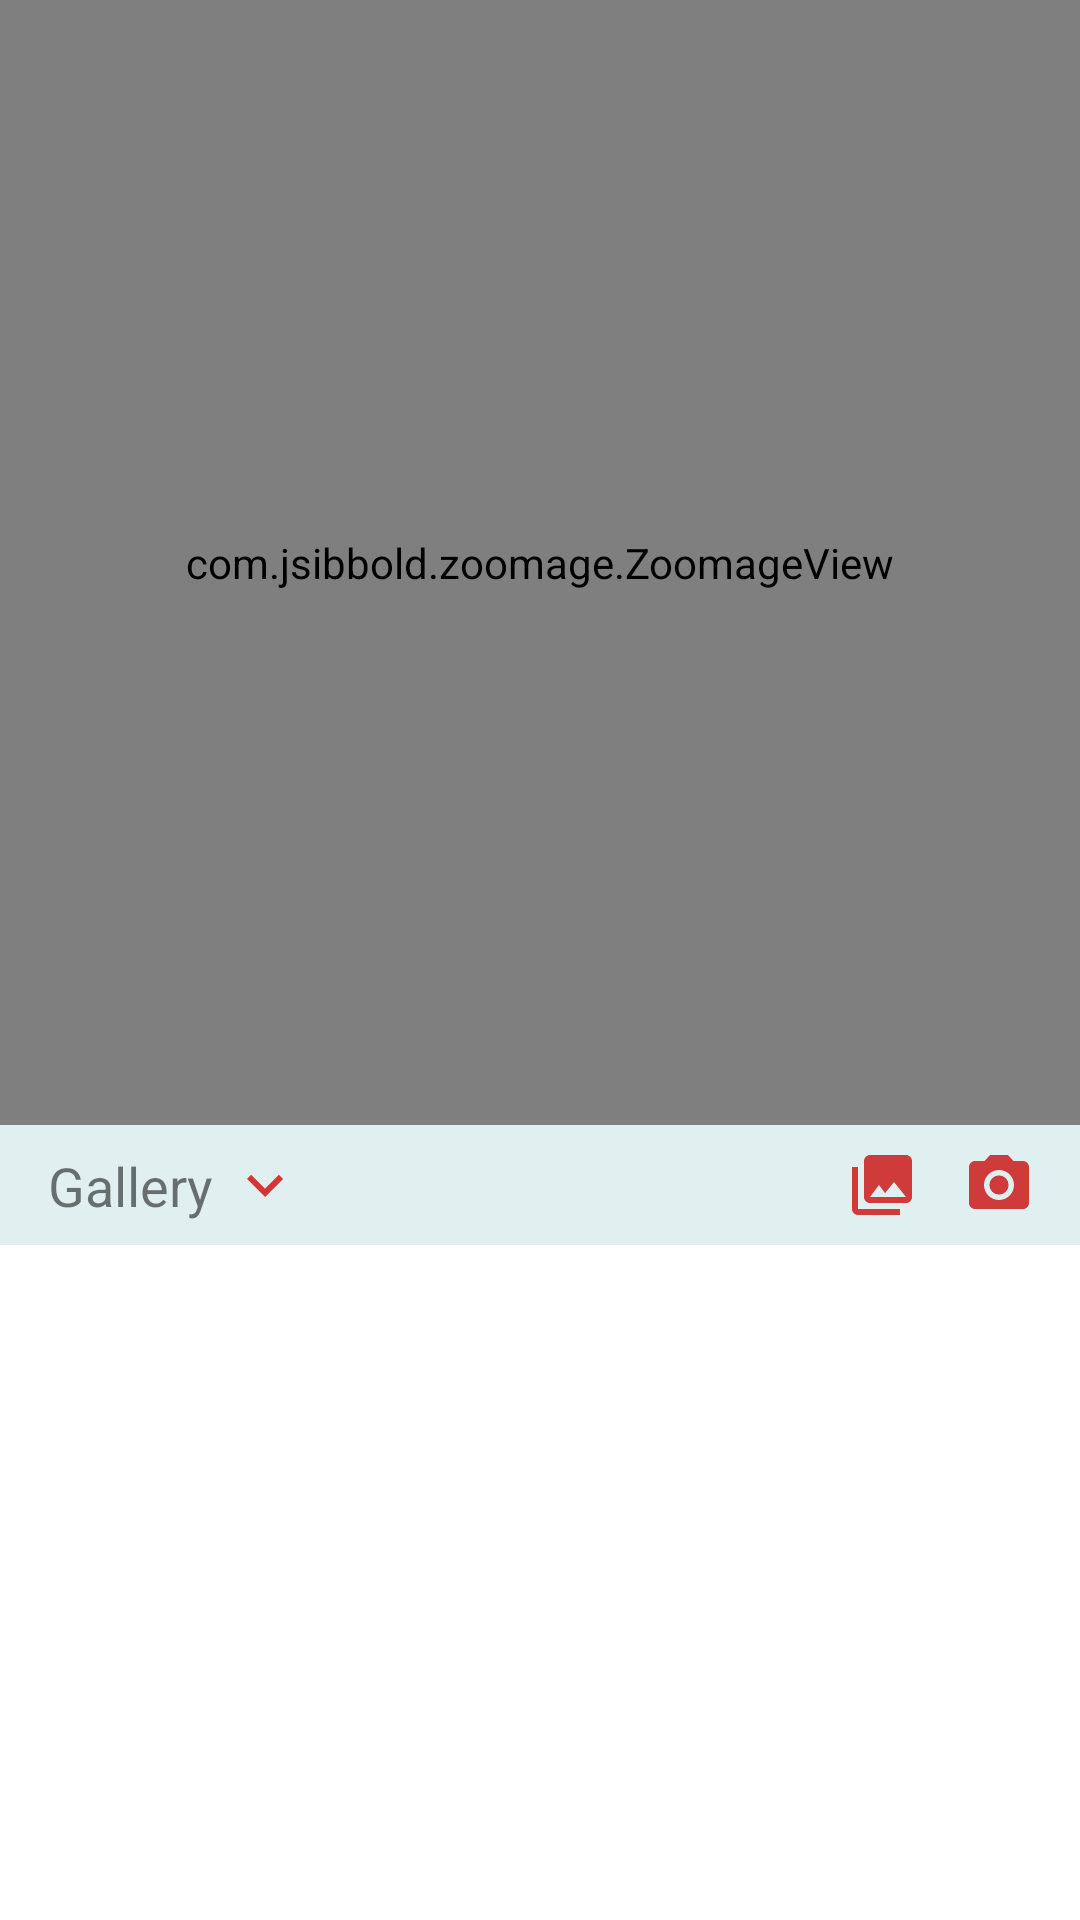

Named icons in this screenshot (1080x1920) and their bounding boxes, (x1, y1, x2, y2):
camera: (969, 1155, 1029, 1209)
keyboard arrow down: (247, 1175, 283, 1197)
photo library: (852, 1155, 912, 1215)
